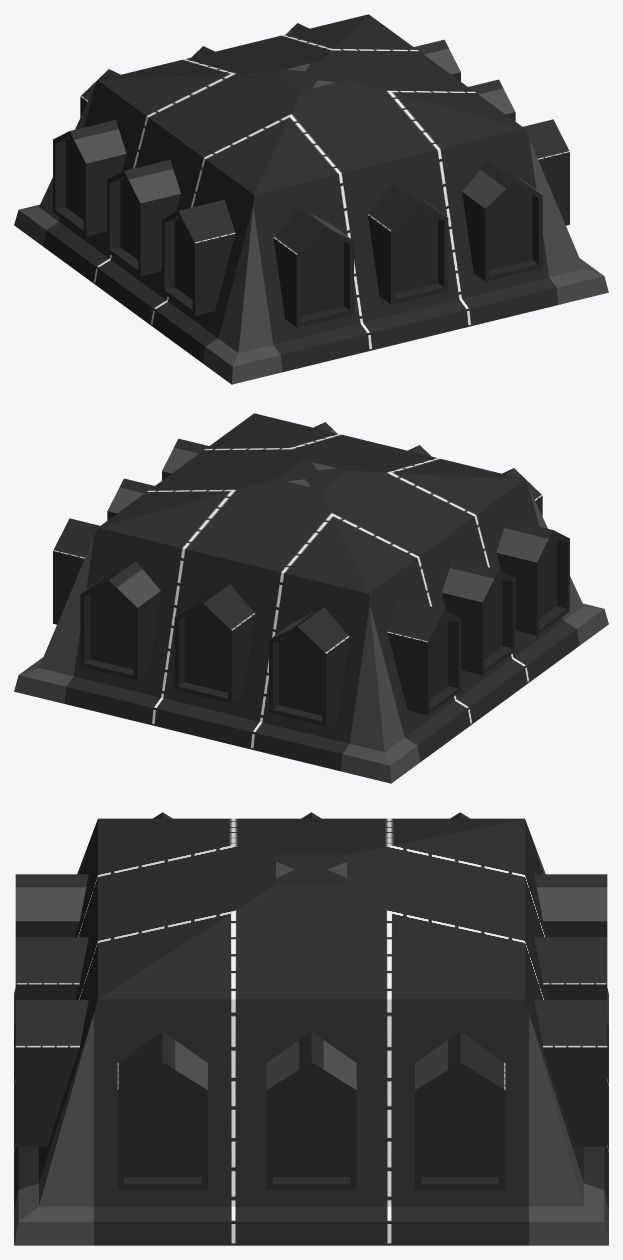
Rendered from roof3.fbx.
3 renders of one model, top to bottom at view 1: azimuth 30°, elevation 25°; view 2: azimuth 150°, elevation 25°; view 3: azimuth 270°, elevation 25°, orthographic. The views are drawn at different scales.
Parts seen in each view (by area): view 1: Roof3; view 2: Roof3; view 3: Roof3.
Boxes of the visible parts, box(x1,y1,x2,y2) form: Roof3: box(14, 14, 608, 384); Roof3: box(14, 413, 608, 783); Roof3: box(14, 812, 608, 1245).
Bounding box in the file's own units: 200 × 92.8 × 200.
